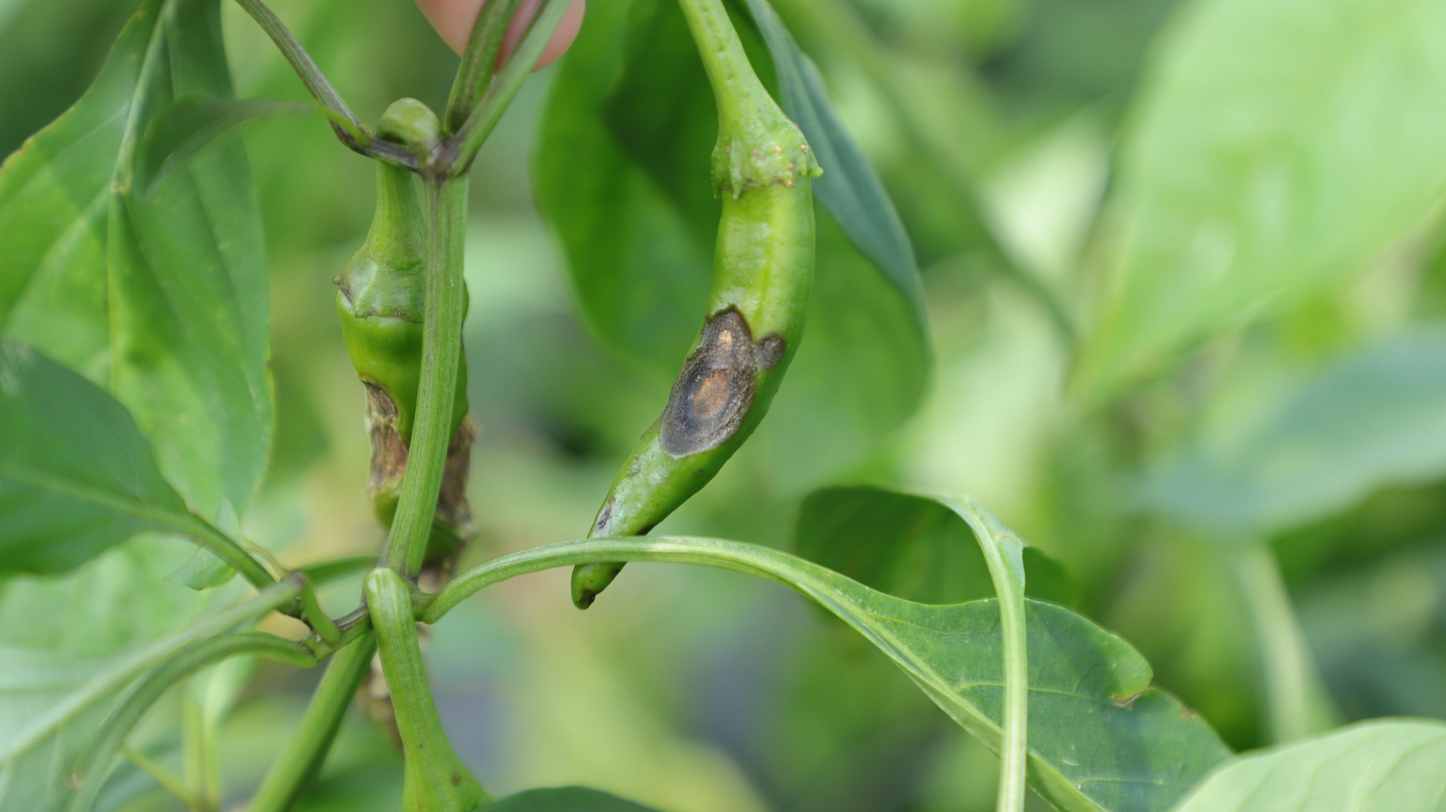Busuk Buah Antraknosa: (565, 121, 827, 617), (315, 221, 477, 773)
